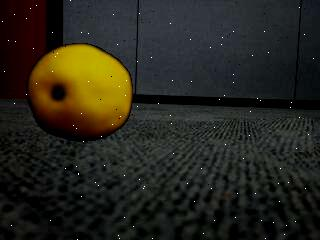Lemon: (27, 43, 134, 143)
